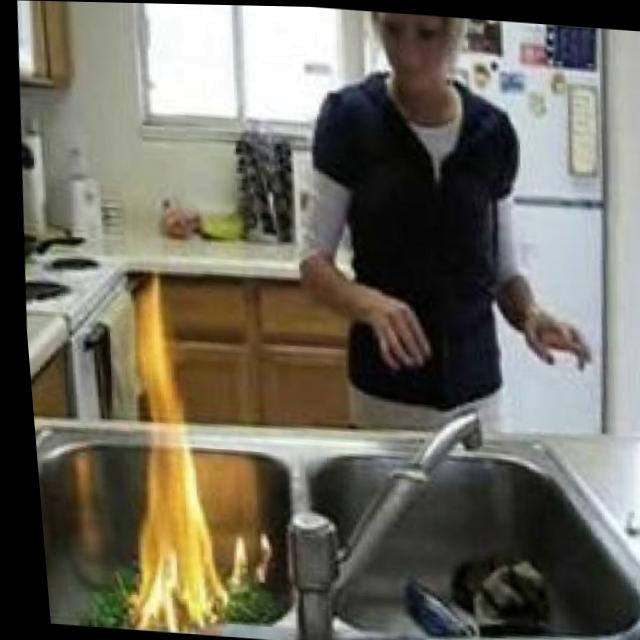fire: (96, 282, 232, 636), (215, 538, 272, 594)
